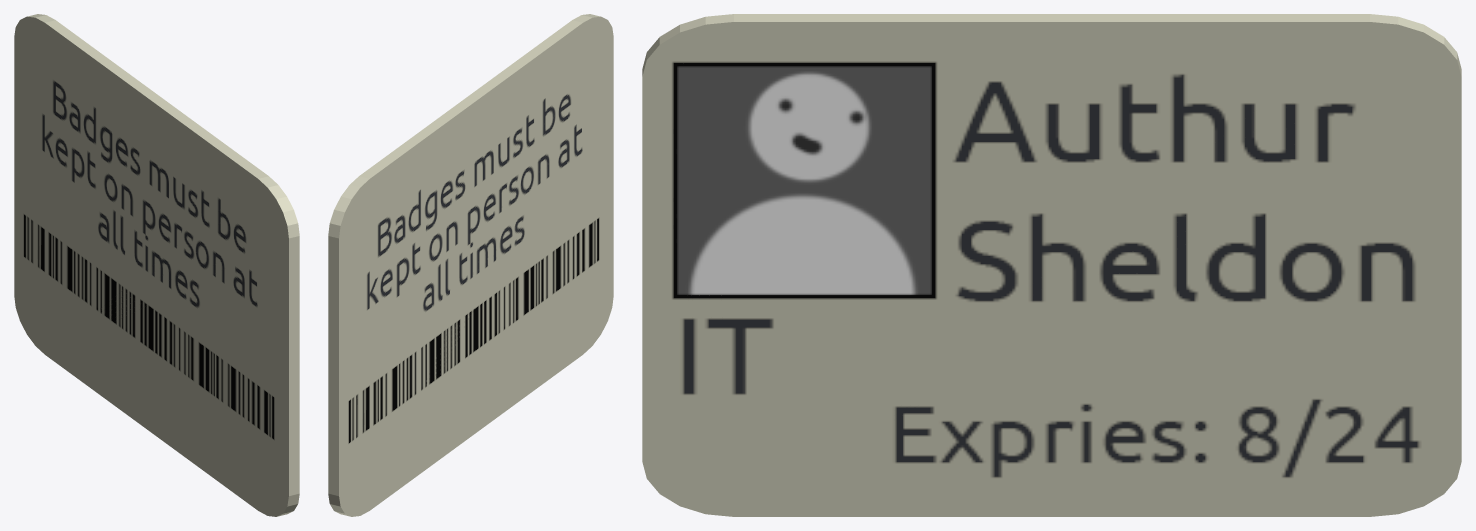
The model's file is Badge.fbx.
3 views of the same model, side by side, from view 1: azimuth 30°, elevation 25°; view 2: azimuth 150°, elevation 25°; view 3: azimuth 270°, elevation 25° (orthographic). The views are drawn at different scales.
Visible parts, largest first — view 1: Cube; view 2: Cube; view 3: Cube.
Part boxes in pixels (box(x1,y1,x2,y2)): Cube: box(14, 14, 299, 516); Cube: box(328, 14, 613, 516); Cube: box(642, 14, 1461, 516).
Bounding box in the file's own units: 6.85 × 200 × 300.
